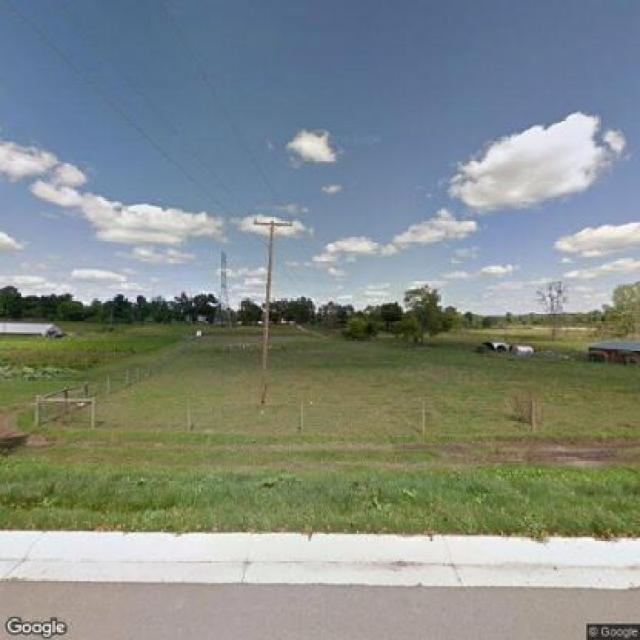pole: (251, 208, 294, 406)
